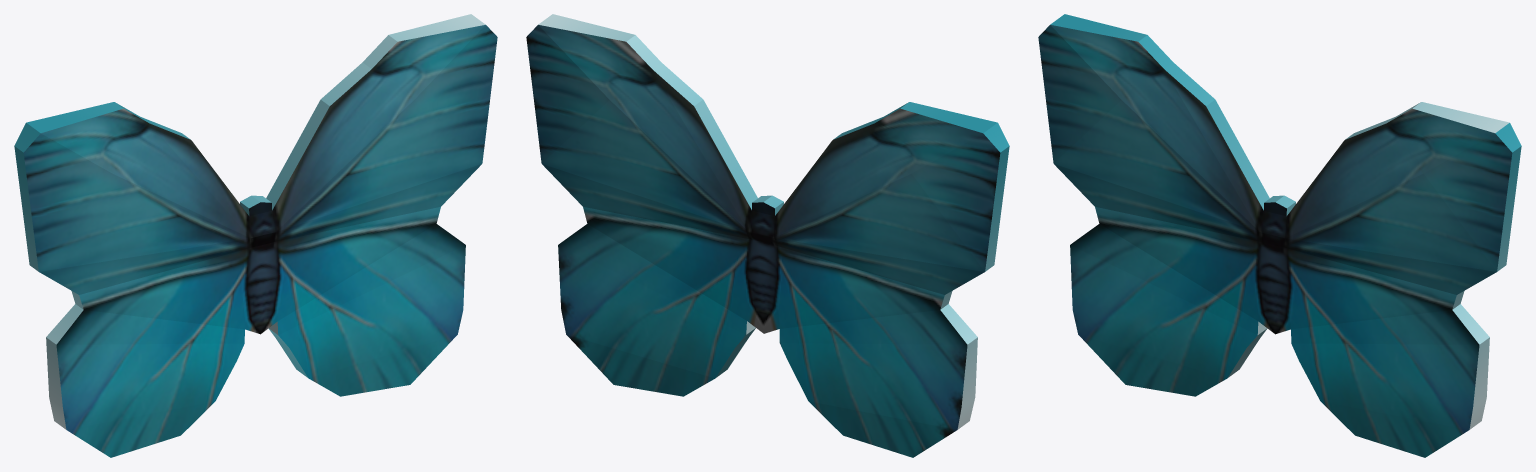
File: Butterfly.fbx
The picture shows the model from 3 angles, left to right: view 1: azimuth 30°, elevation 25°; view 2: azimuth 150°, elevation 25°; view 3: azimuth 330°, elevation 25°; orthographic projection.
Parts seen in each view (by area): view 1: Butterfly; view 2: Butterfly; view 3: Butterfly.
Boxes of the visible parts, left/top/right/bottom form: Butterfly: left=14, top=14, right=497, bottom=457; Butterfly: left=526, top=14, right=1009, bottom=457; Butterfly: left=1038, top=14, right=1521, bottom=457.
Size of the model in its own units: 1.09 by 0.7643 by 0.0607.
